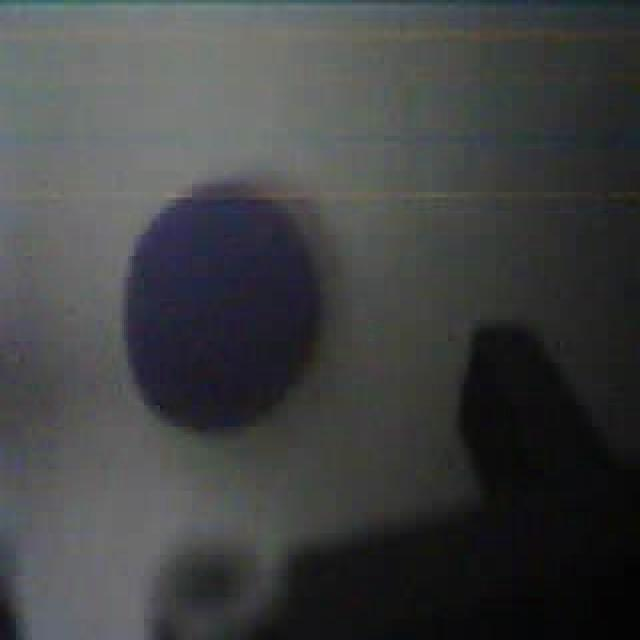blue_ball: (122, 187, 326, 437)
